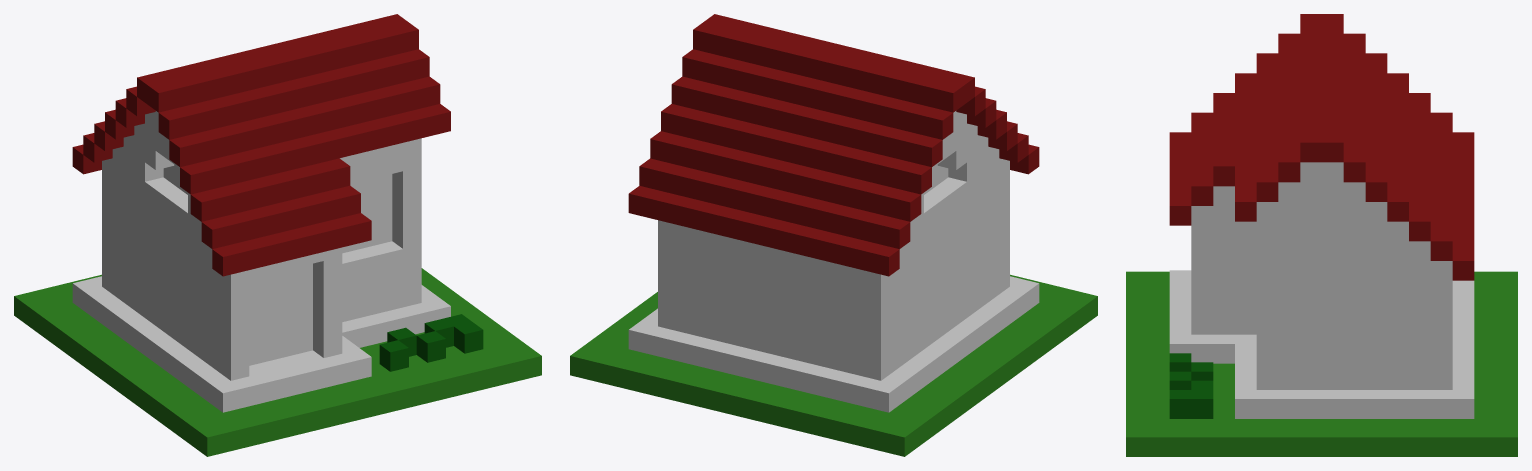
3 renders of one model, left to right at view 1: azimuth 30°, elevation 25°; view 2: azimuth 150°, elevation 25°; view 3: azimuth 270°, elevation 25°, orthographic.
Visible parts, largest first — view 1: house_12; view 2: house_12; view 3: house_12.
Boxes of the visible parts, bbox=[...] form: house_12: bbox=[14, 14, 541, 456]; house_12: bbox=[570, 14, 1097, 456]; house_12: bbox=[1126, 14, 1517, 456].
Bounding box in the file's own units: 4.5 × 3.75 × 4.5.
